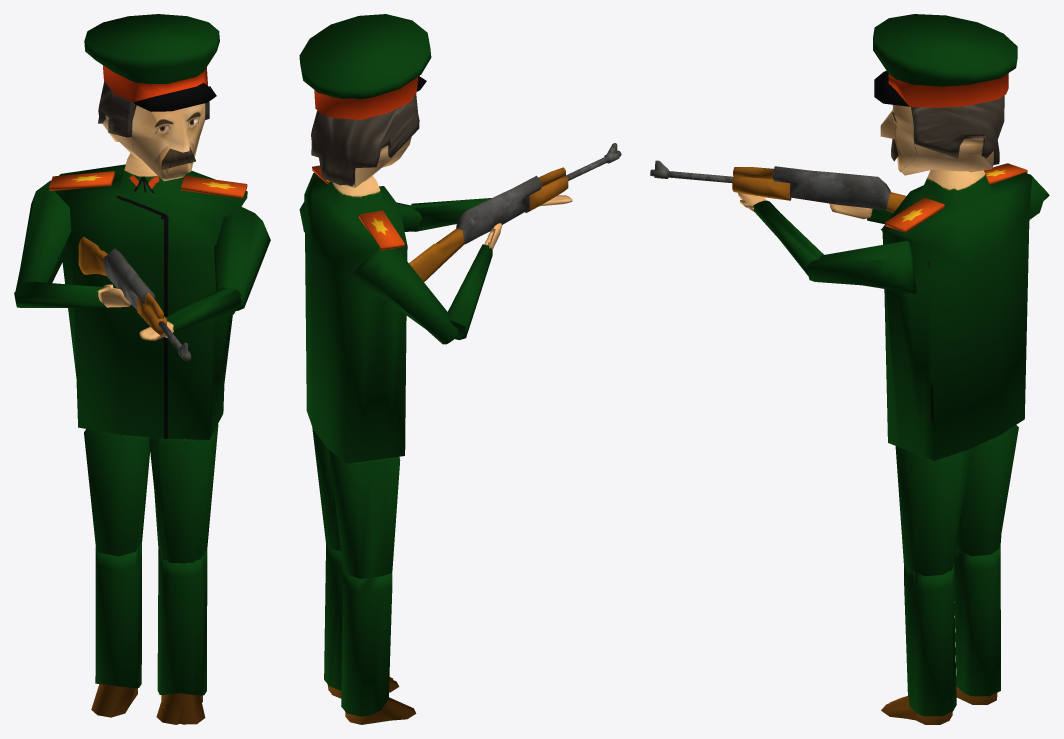
The model's file is stalin.FBX.
The picture shows the model from 3 angles, left to right: view 1: azimuth 30°, elevation 25°; view 2: azimuth 150°, elevation 25°; view 3: azimuth 270°, elevation 25°; orthographic projection. The views are drawn at different scales.
Parts seen in each view (by area): view 1: body_buik, body_hoed, L_been_onderbeen_R1, L_been_bovenbeen_R1, body_hoofd, L_been_onderbeen_R004, L_been_bovenbeen_R004, L_been_onderbeen_R003, L_arm_bovenarm_R1, L_been_bovenbeen_R003, L_arm_bovenarm_R002, Cylinder_2 (+4 smaller); view 2: body_buik, body_hoed, L_been_onderbeen_R1, L_been_bovenbeen_R1, body_hoofd, Cylinder_2, L_arm_bovenarm_R1, L_arm_onderarm_R, L_been_onderbeen_R004, L_arm_onderarm_R001, L_been_onderbeen_R003, body_shoulderpads_2 (+3 smaller); view 3: body_buik, body_hoed, body_hoofd, L_been_onderbeen_R1, L_been_onderbeen_R003, L_been_bovenbeen_R004, Cylinder_2, L_been_bovenbeen_R1, L_arm_bovenarm_R002, L_been_onderbeen_R004, L_arm_onderarm_R001, L_been_bovenbeen_R003 (+2 smaller).
Part boxes in pixels (x1,y1,x2,y2): body_buik: (54, 153, 247, 439); body_hoed: (84, 14, 219, 111); L_been_onderbeen_R1: (91, 542, 141, 717); L_been_bovenbeen_R1: (84, 429, 150, 556); body_hoofd: (98, 81, 209, 181); L_been_onderbeen_R004: (157, 549, 205, 724); L_been_bovenbeen_R004: (149, 424, 218, 563); L_been_onderbeen_R003: (156, 549, 207, 724); L_arm_bovenarm_R1: (15, 180, 71, 290); L_been_bovenbeen_R003: (154, 431, 214, 562); L_arm_bovenarm_R002: (214, 207, 270, 310); Cylinder_2: (78, 236, 191, 361); body_buik: (304, 172, 407, 463); body_hoed: (299, 14, 431, 119); L_been_onderbeen_R1: (341, 570, 416, 724); L_been_bovenbeen_R1: (329, 449, 400, 578); body_hoofd: (311, 93, 419, 187); Cylinder_2: (409, 143, 621, 281); L_arm_bovenarm_R1: (350, 248, 457, 344); L_arm_onderarm_R: (448, 223, 502, 339); L_been_onderbeen_R004: (327, 547, 393, 698); L_arm_onderarm_R001: (411, 195, 572, 231); L_been_onderbeen_R003: (324, 543, 399, 695); body_shoulderpads_2: (359, 210, 404, 250); body_buik: (881, 169, 1031, 460); body_hoed: (873, 14, 1017, 107); body_hoofd: (880, 95, 1004, 175); L_been_onderbeen_R1: (954, 544, 1000, 704); L_been_onderbeen_R003: (890, 568, 953, 724); L_been_bovenbeen_R004: (898, 447, 971, 576); Cylinder_2: (650, 160, 906, 212); L_been_bovenbeen_R1: (955, 425, 1018, 556); L_arm_bovenarm_R002: (807, 240, 916, 293); L_been_onderbeen_R004: (881, 564, 956, 721); L_arm_onderarm_R001: (738, 193, 823, 275); L_been_bovenbeen_R003: (895, 446, 963, 571).
Bounding box in the file's own units: 37.91 × 117 × 63.23.
